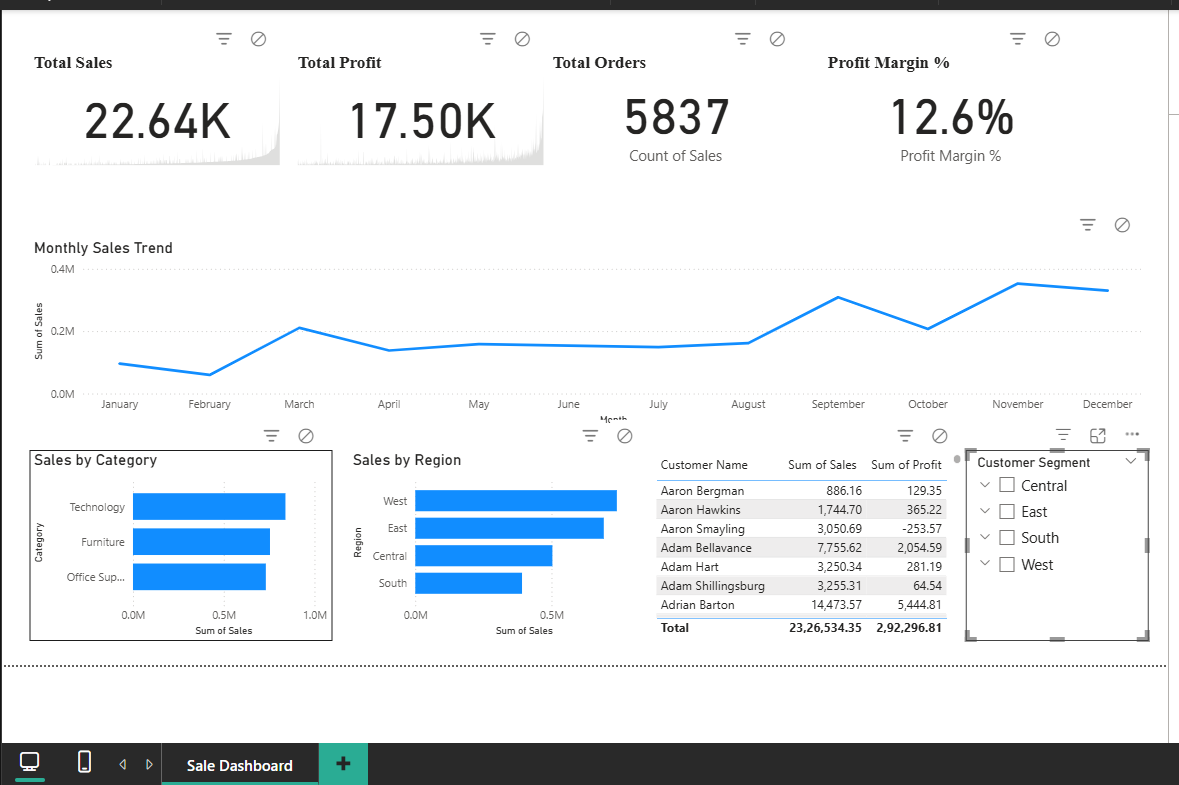

The dashboard page shown, as its layout file describes it:
{"tool":"powerbi","page":{"name":"Sale Dashboard","canvas":[1280,720],"ordinal":0},"visuals":[{"type":"kpi","title":"Total Sales","fields":{"Indicator":["Sum(Orders.Sales)"],"TrendLine":["Orders.Sales"]},"box":[30.2,46.7,279.9,129],"z":0},{"type":"kpi","title":"Total Profit","fields":{"Indicator":["Sum(Orders.Sales)"],"TrendLine":["Orders.Profit"]},"box":[319.7,46.7,279.9,129],"z":1000},{"type":"card","title":"Total Orders","fields":{"Values":["Count(Orders.Sales)"]},"box":[599.7,46.7,279.9,129],"z":2000},{"type":"card","title":"Profit Margin %","fields":{"Values":["Orders.Profit Margin %"]},"box":[901.5,46.7,279.9,129],"z":3000},{"type":"lineChart","title":"Monthly Sales Trend","fields":{"Category":["Orders.Order Date.Variation.Date Hierarchy.Month"],"Y":["Sum(Orders.Sales)"]},"box":[30.2,251.1,1228.1,209.9],"z":4000},{"type":"clusteredBarChart","title":"Sales by Category","fields":{"Category":["Orders.Category"],"Y":["Sum(Orders.Sales)"]},"box":[30.2,483,332.1,209.9],"z":5000},{"type":"clusteredBarChart","title":"Sales by Region","fields":{"Category":["Orders.Region"],"Y":["Sum(Orders.Sales)"]},"box":[380.1,483,332.1,209.9],"z":5001},{"type":"tableEx","fields":{"Values":["Orders.Customer Name","Sum(Orders.Sales)","Sum(Orders.Profit)"]},"box":[712.2,483,345.8,209.9],"z":5002},{"type":"slicer","fields":{"Values":["Orders.Region","Orders.Category","Orders.Segment"]},"box":[1058,483,200,210],"z":5003}]}

Visuals, with their boxes on the page's 1280x720 design canvas (x1, y1, x2, y2). These are canvas units, not pixel positions in the 1179x785 screenshot, which may show the page scaled, cropped or inside an application window:
"Total Sales" kpi: box(30, 47, 310, 176)
"Total Profit" kpi: box(320, 47, 600, 176)
"Total Orders" card: box(600, 47, 880, 176)
"Profit Margin %" card: box(902, 47, 1181, 176)
"Monthly Sales Trend" lineChart: box(30, 251, 1258, 461)
"Sales by Category" clusteredBarChart: box(30, 483, 362, 693)
"Sales by Region" clusteredBarChart: box(380, 483, 712, 693)
tableEx - Orders.Customer Name x Sum(Orders.Sales): box(712, 483, 1058, 693)
slicer - Orders.Region x Orders.Category: box(1058, 483, 1258, 693)
